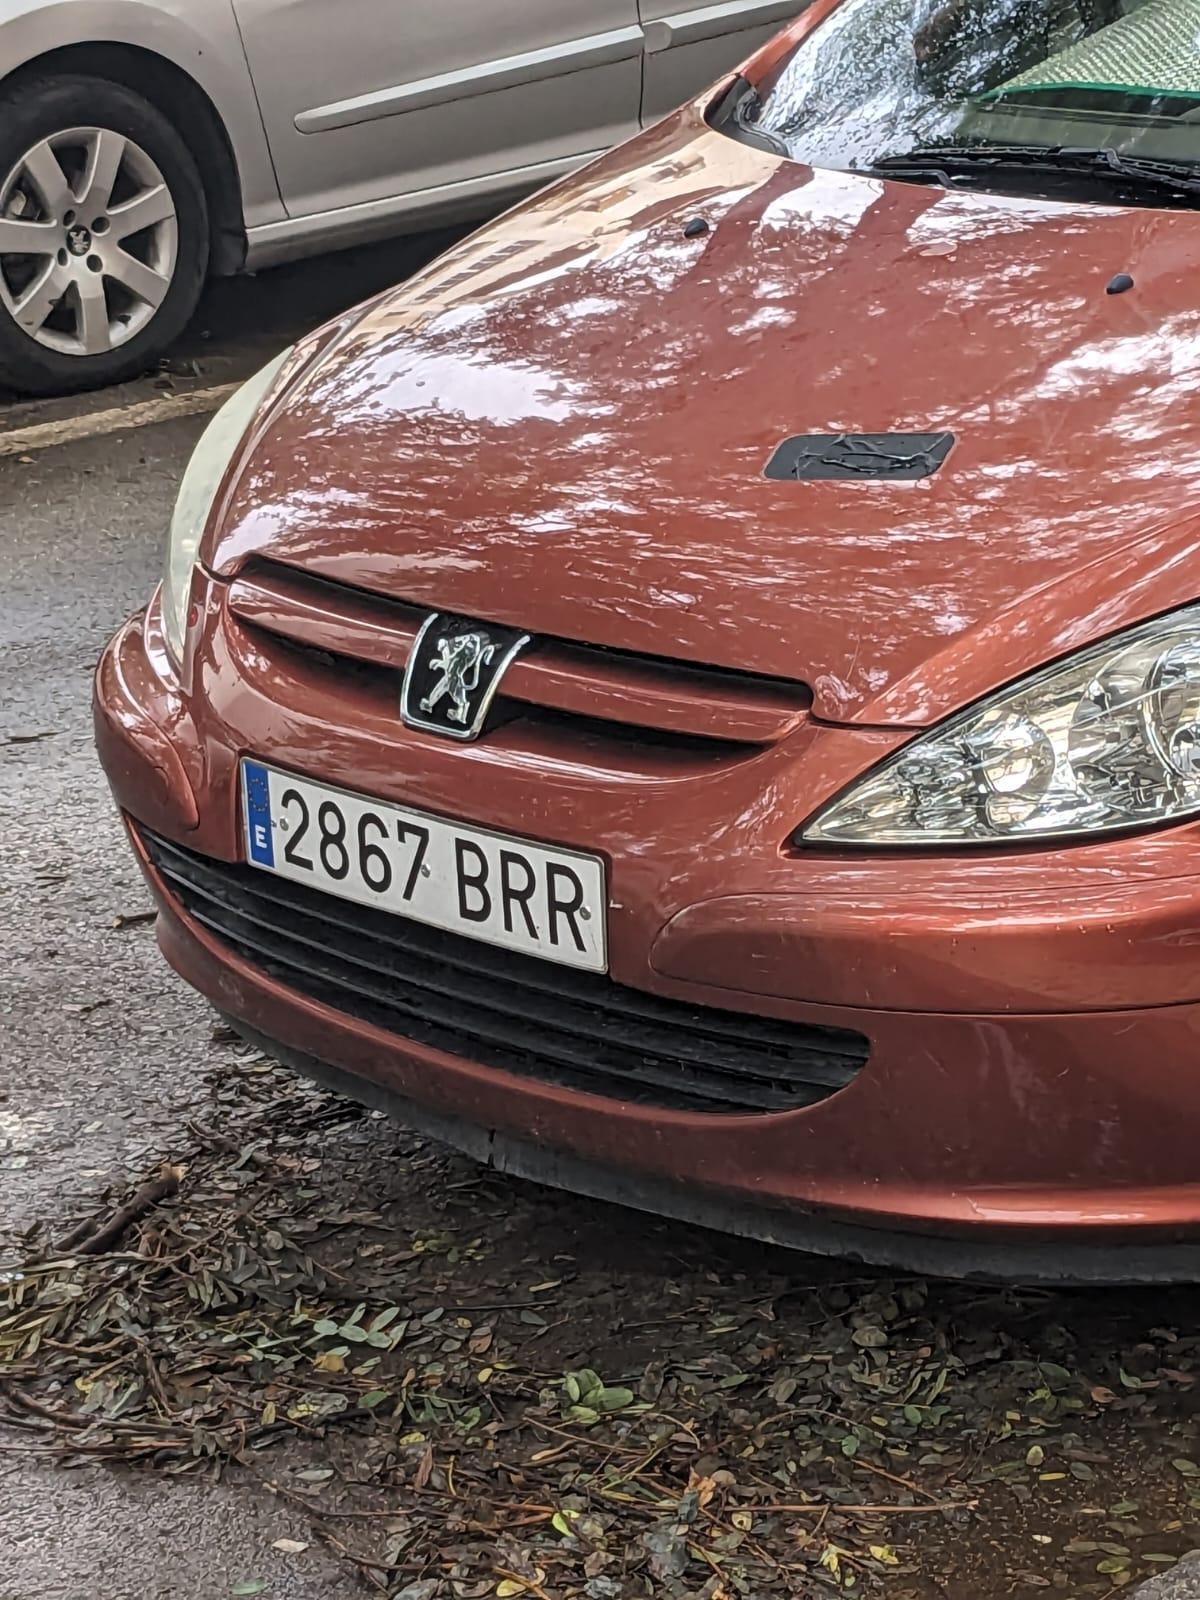car: (50, 5, 1199, 1228), (6, 0, 766, 406)
